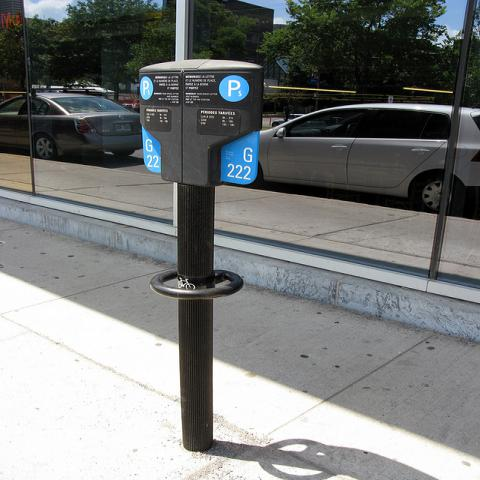car: (262, 107, 476, 211), (1, 91, 141, 159), (86, 87, 107, 93)
